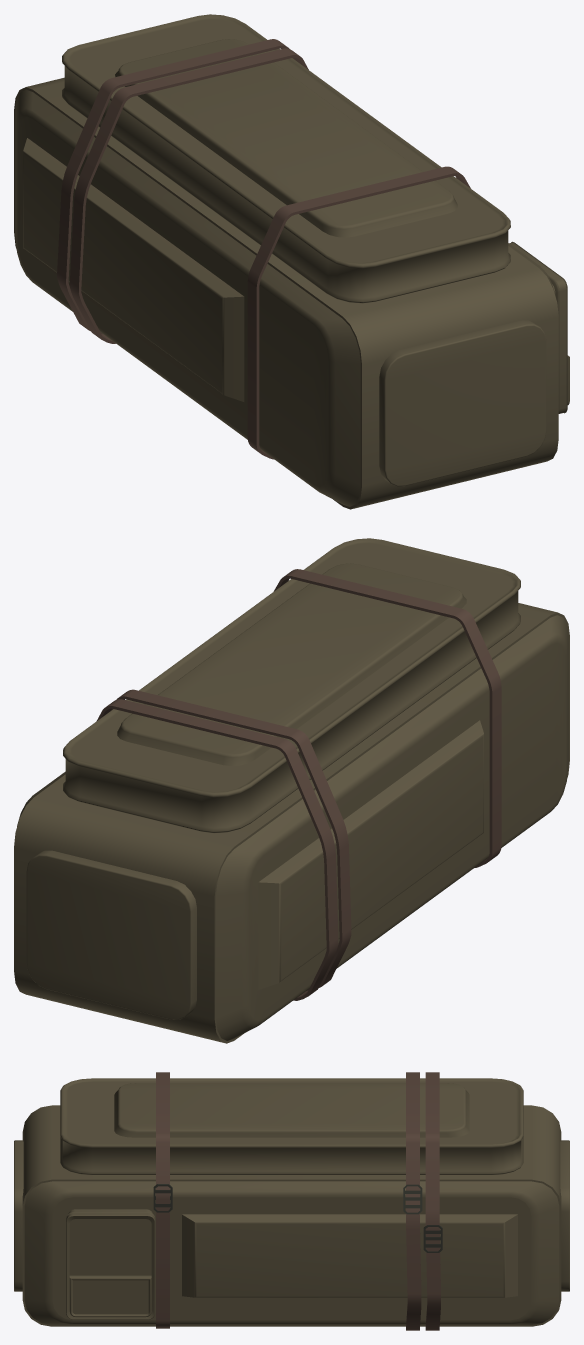
The model's file is military_luggage.glb.
3 views of the same model, one above another, from view 1: azimuth 30°, elevation 25°; view 2: azimuth 150°, elevation 25°; view 3: azimuth 270°, elevation 25° (orthographic). The views are drawn at different scales.
Visible parts, largest first — view 1: Cube.003, Cube.001, Cube.002, Plane, Cube.006, Vert, Cube.005; view 2: Cube.003, Cube.001, Cube.002, Plane, Cube.006, Vert; view 3: Cube.003, Plane, Cube.001, Cube.002, Vert, Cube.005, Cube.006, Plane.002, Plane.003, Plane.001.
Boxes of the visible parts, <box> form: Cube.003: <box>14,77,558,509</box>; Cube.001: <box>62,14,510,303</box>; Cube.002: <box>115,39,457,237</box>; Plane: <box>23,138,244,401</box>; Cube.006: <box>379,320,546,486</box>; Vert: <box>57,39,470,459</box>; Cube.005: <box>509,241,569,413</box>; Cube.003: <box>14,603,569,1043</box>; Cube.001: <box>63,538,520,833</box>; Cube.002: <box>117,563,466,765</box>; Plane: <box>258,720,483,989</box>; Cube.006: <box>26,850,196,1019</box>; Vert: <box>96,569,501,1000</box>; Cube.003: <box>22,1105,561,1326</box>; Plane: <box>182,1214,517,1297</box>; Cube.001: <box>60,1078,523,1175</box>; Cube.002: <box>114,1083,469,1137</box>; Vert: <box>156,1072,440,1330</box>; Cube.005: <box>66,1209,155,1319</box>; Cube.006: <box>14,1140,569,1291</box>; Plane.002: <box>403,1184,422,1214</box>; Plane.003: <box>423,1225,442,1252</box>; Plane.001: <box>153,1184,172,1212</box>.
Size of the model in its own units: 1.05 by 0.9046 by 2.39.
Materials: 2 (2 with a texture image).
